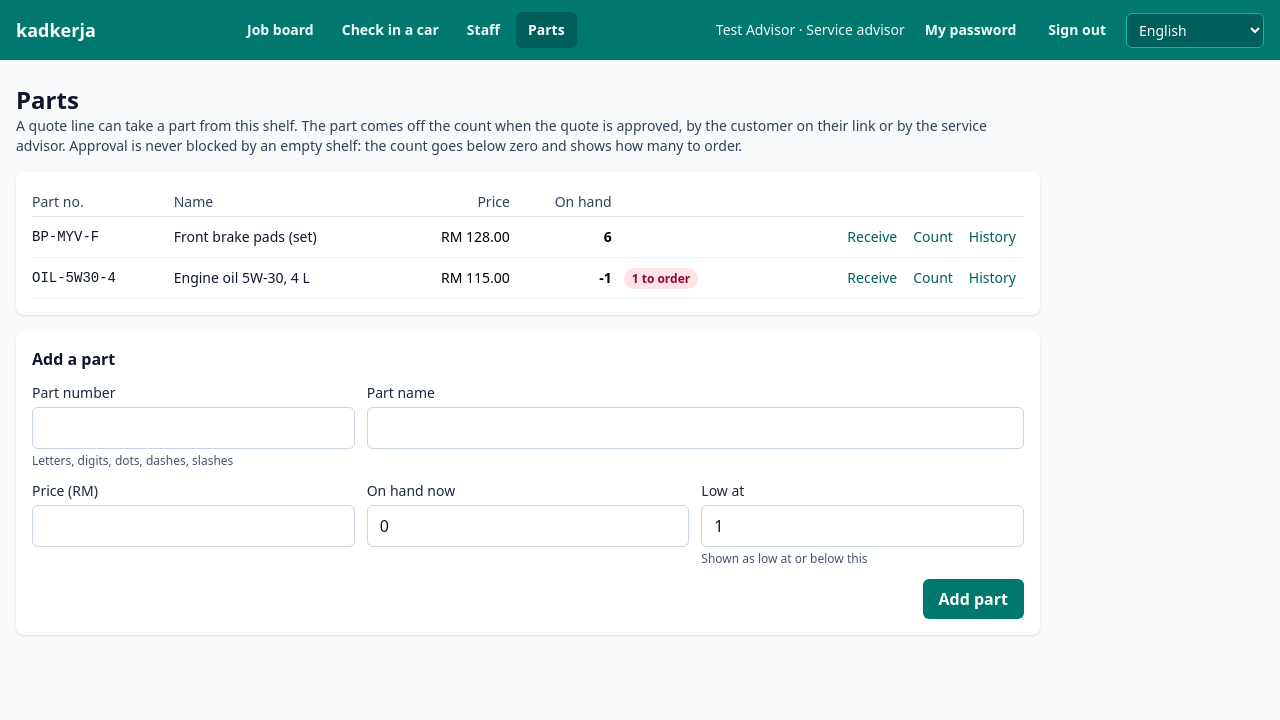
Test: Parts page › adds a part, showing a taken part number next to the field
expect the table is shown: met, box [32,188,1024,299]
Type " wip-14 " into the field labelled "Part number" at (193,428), box [32,407,355,449]
Type "Wiper blade 14\"" into the field labelled "Part name" at (695,428), box [367,407,1024,449]
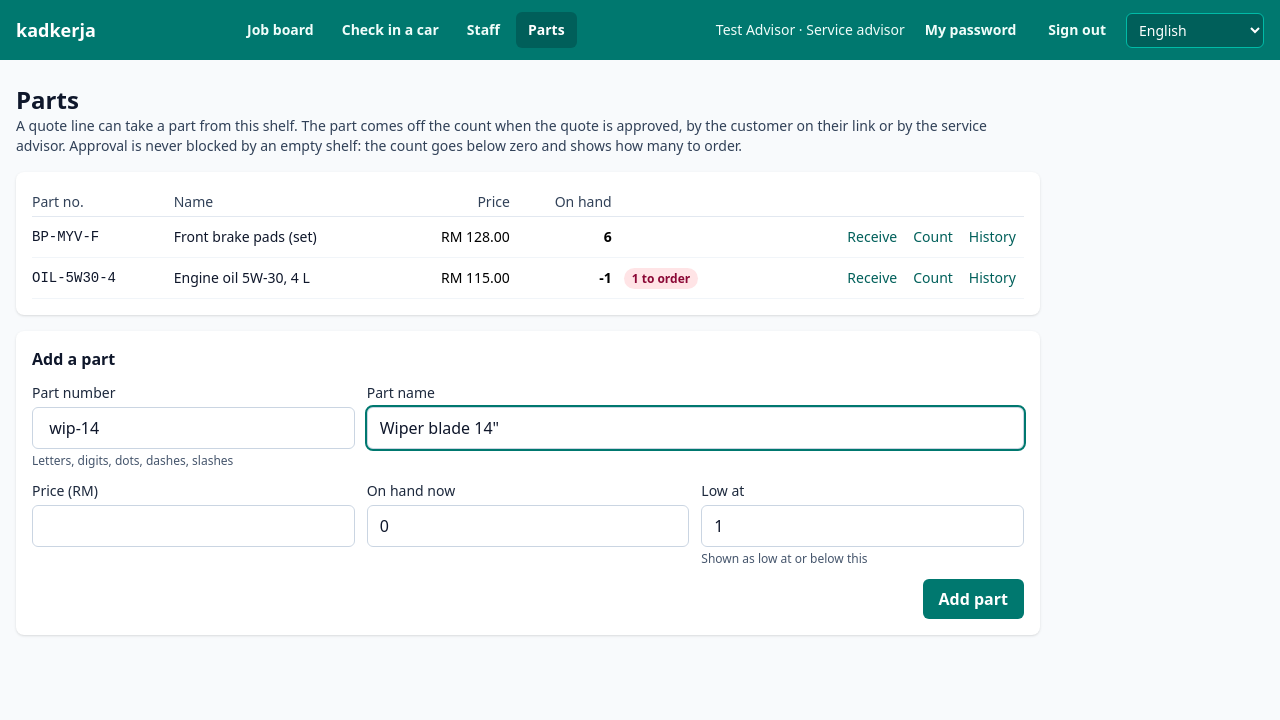
Type "25" into the field labelled "Price (RM)" at (193,526), box [32,505,355,547]
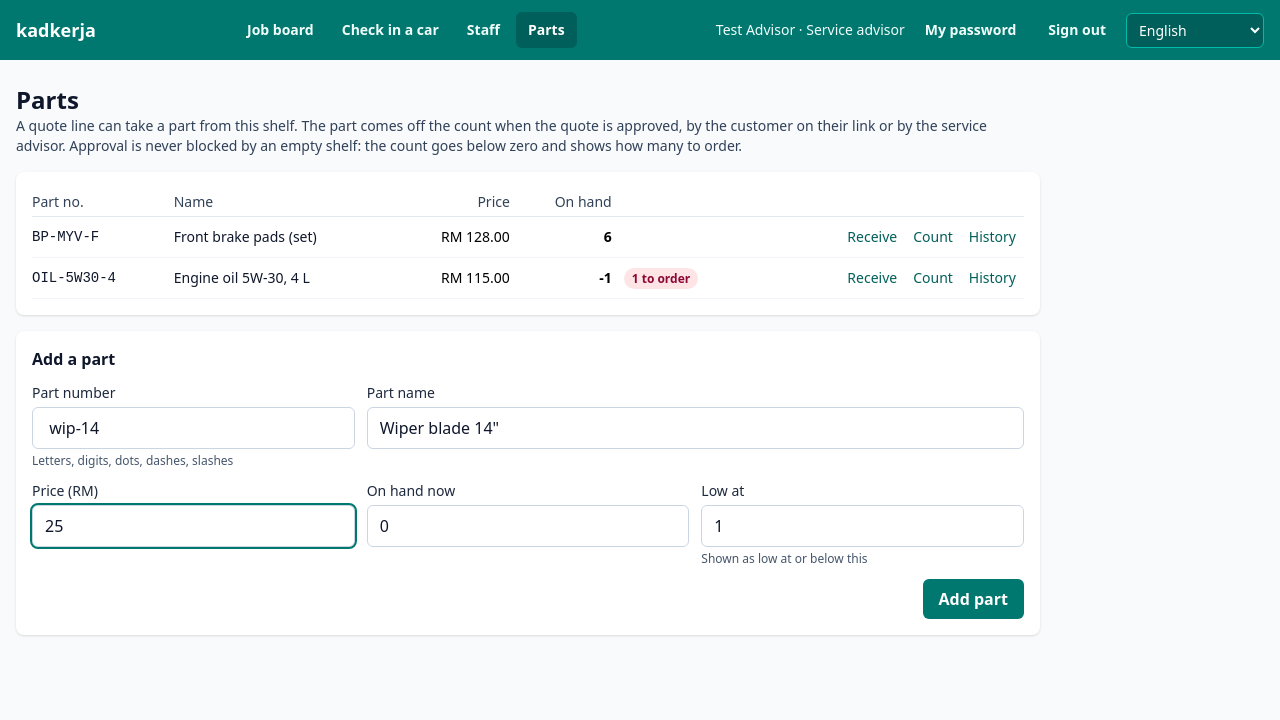
Replace the text in the number field labelled "On hand now" with "8" at (528,526), box [367,505,689,547]
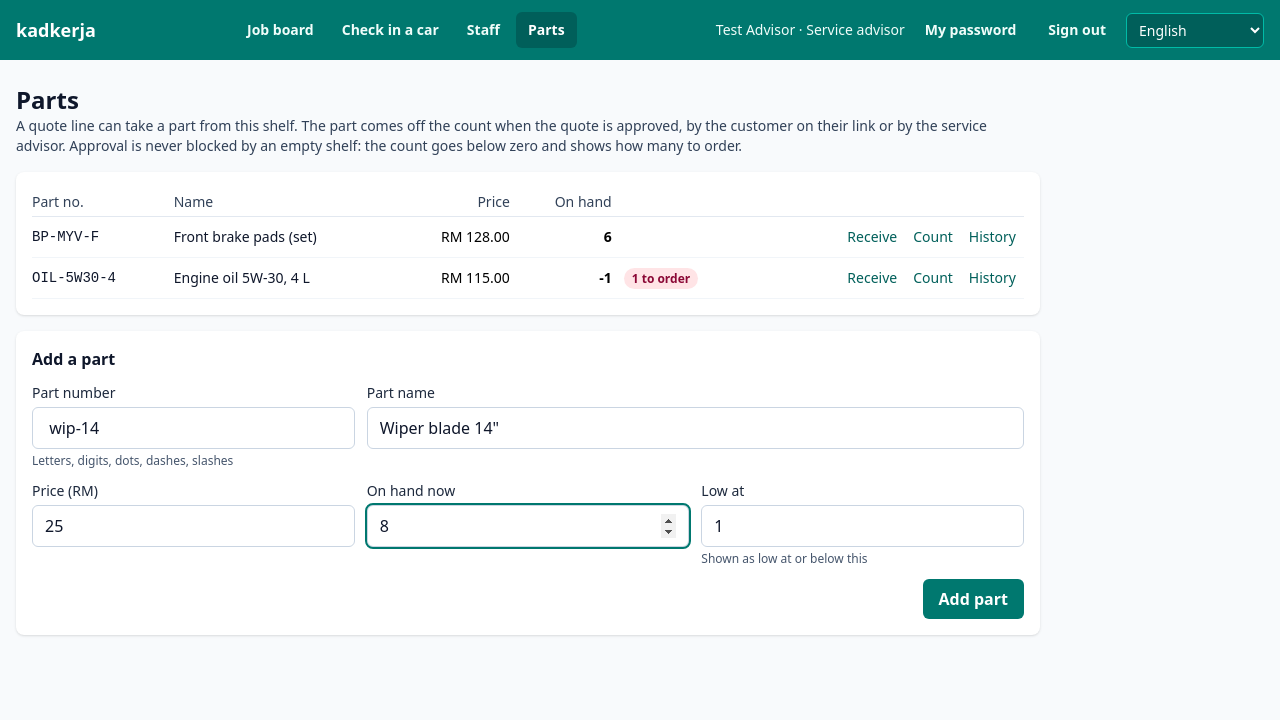
Replace the text in the number field labelled "Low at" with "2" at (863,526), box [701,505,1024,547]
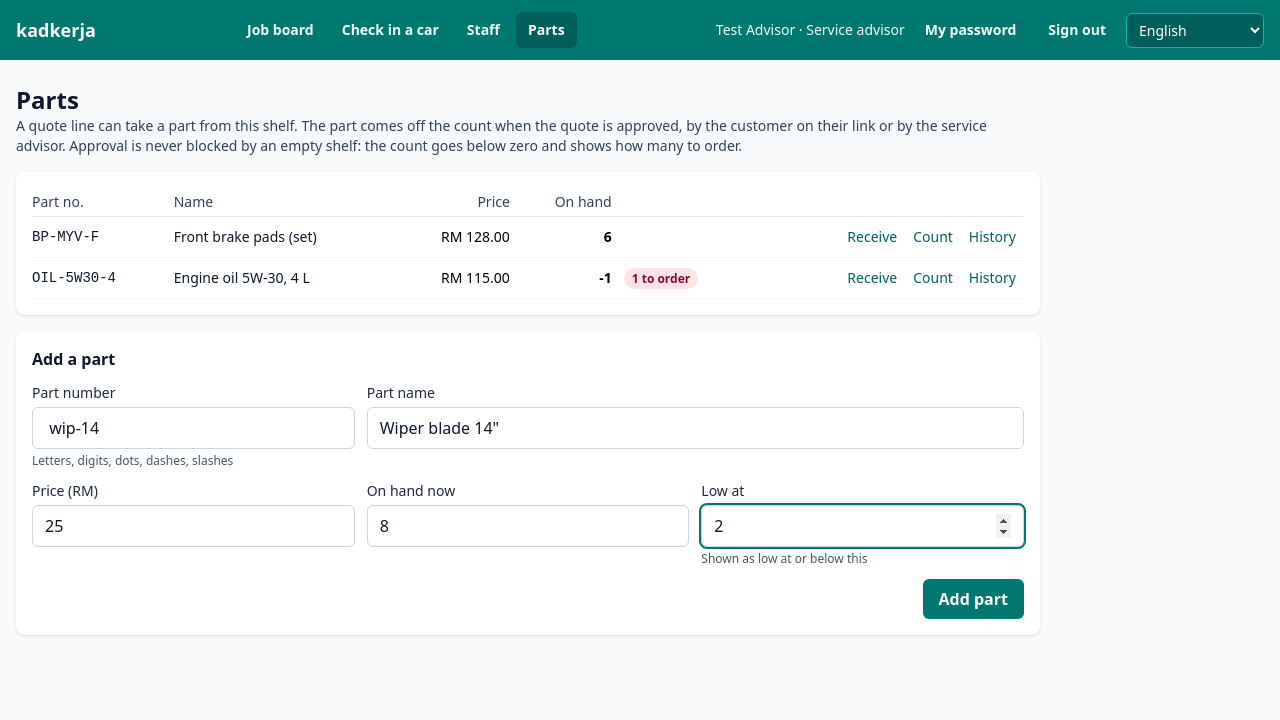
Click the button "Add part" at (973,599), box [922,579,1024,619]
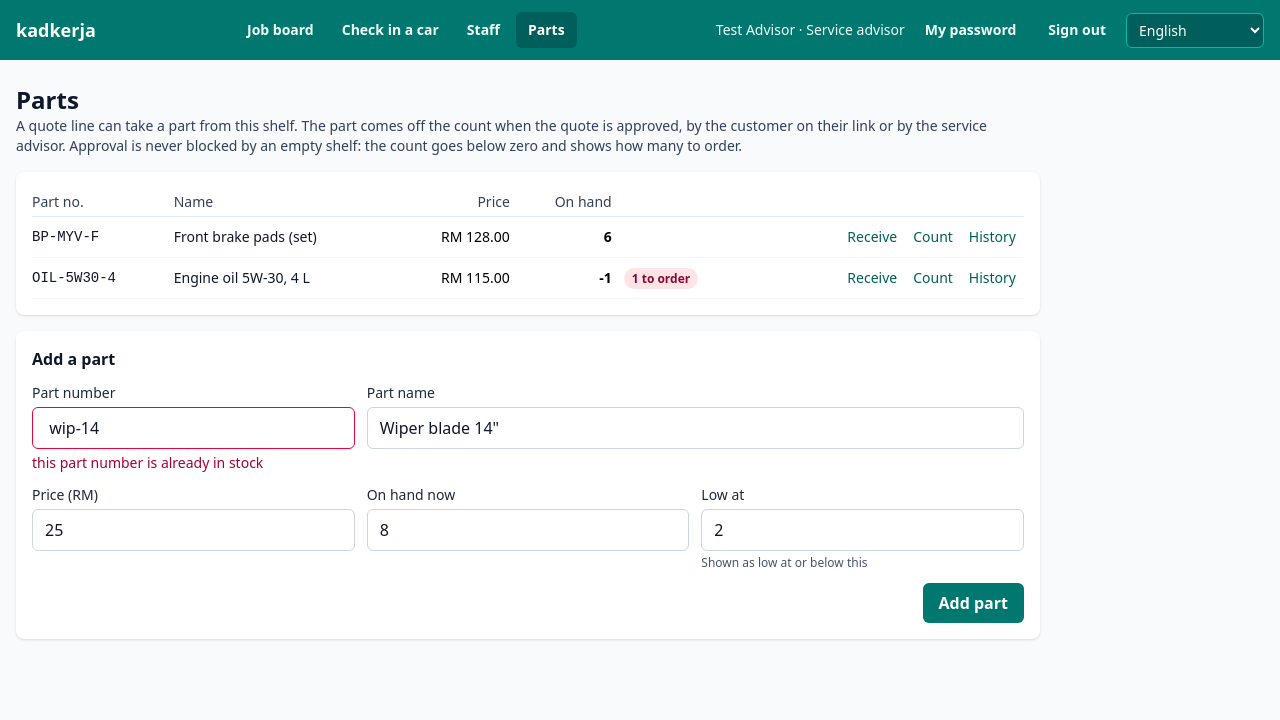
expect the text "this part number is already in stock" is shown: met, box [32,453,263,472]
Click the button "Add part" at (973,603), box [922,583,1024,623]
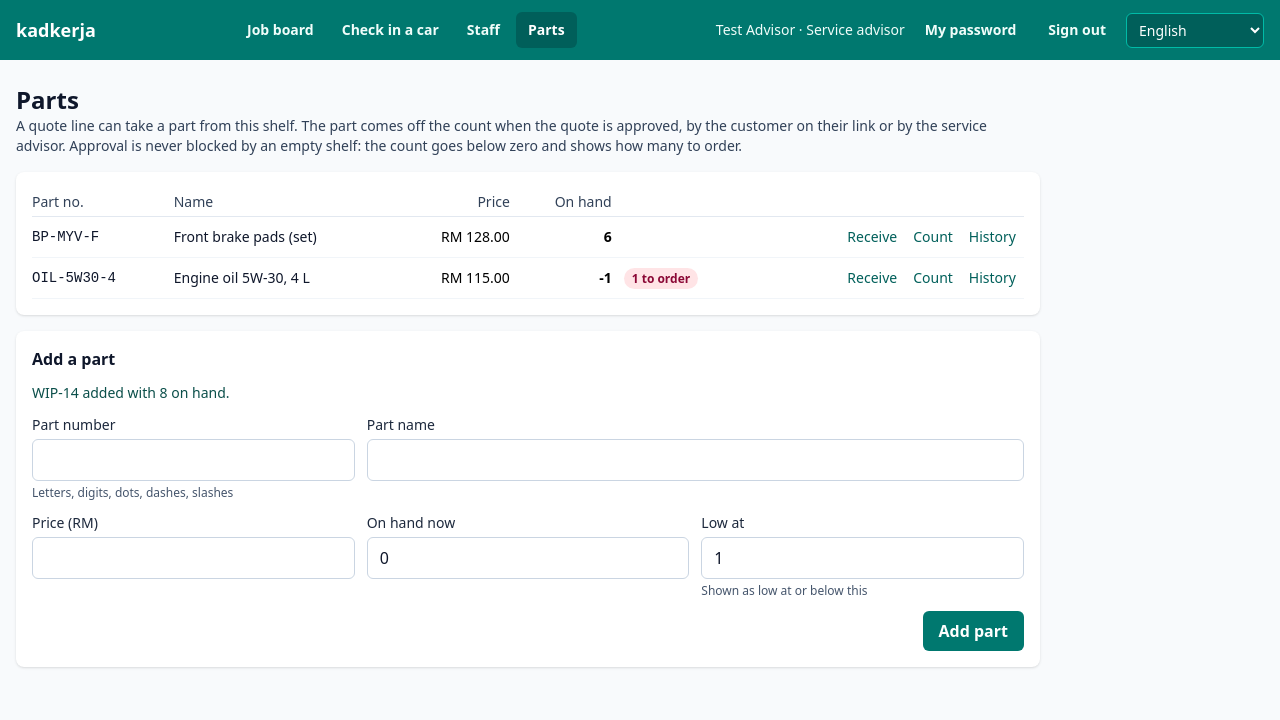
expect the text "WIP-14 added with 8 on hand." is shown: met, box [32,383,230,402]
